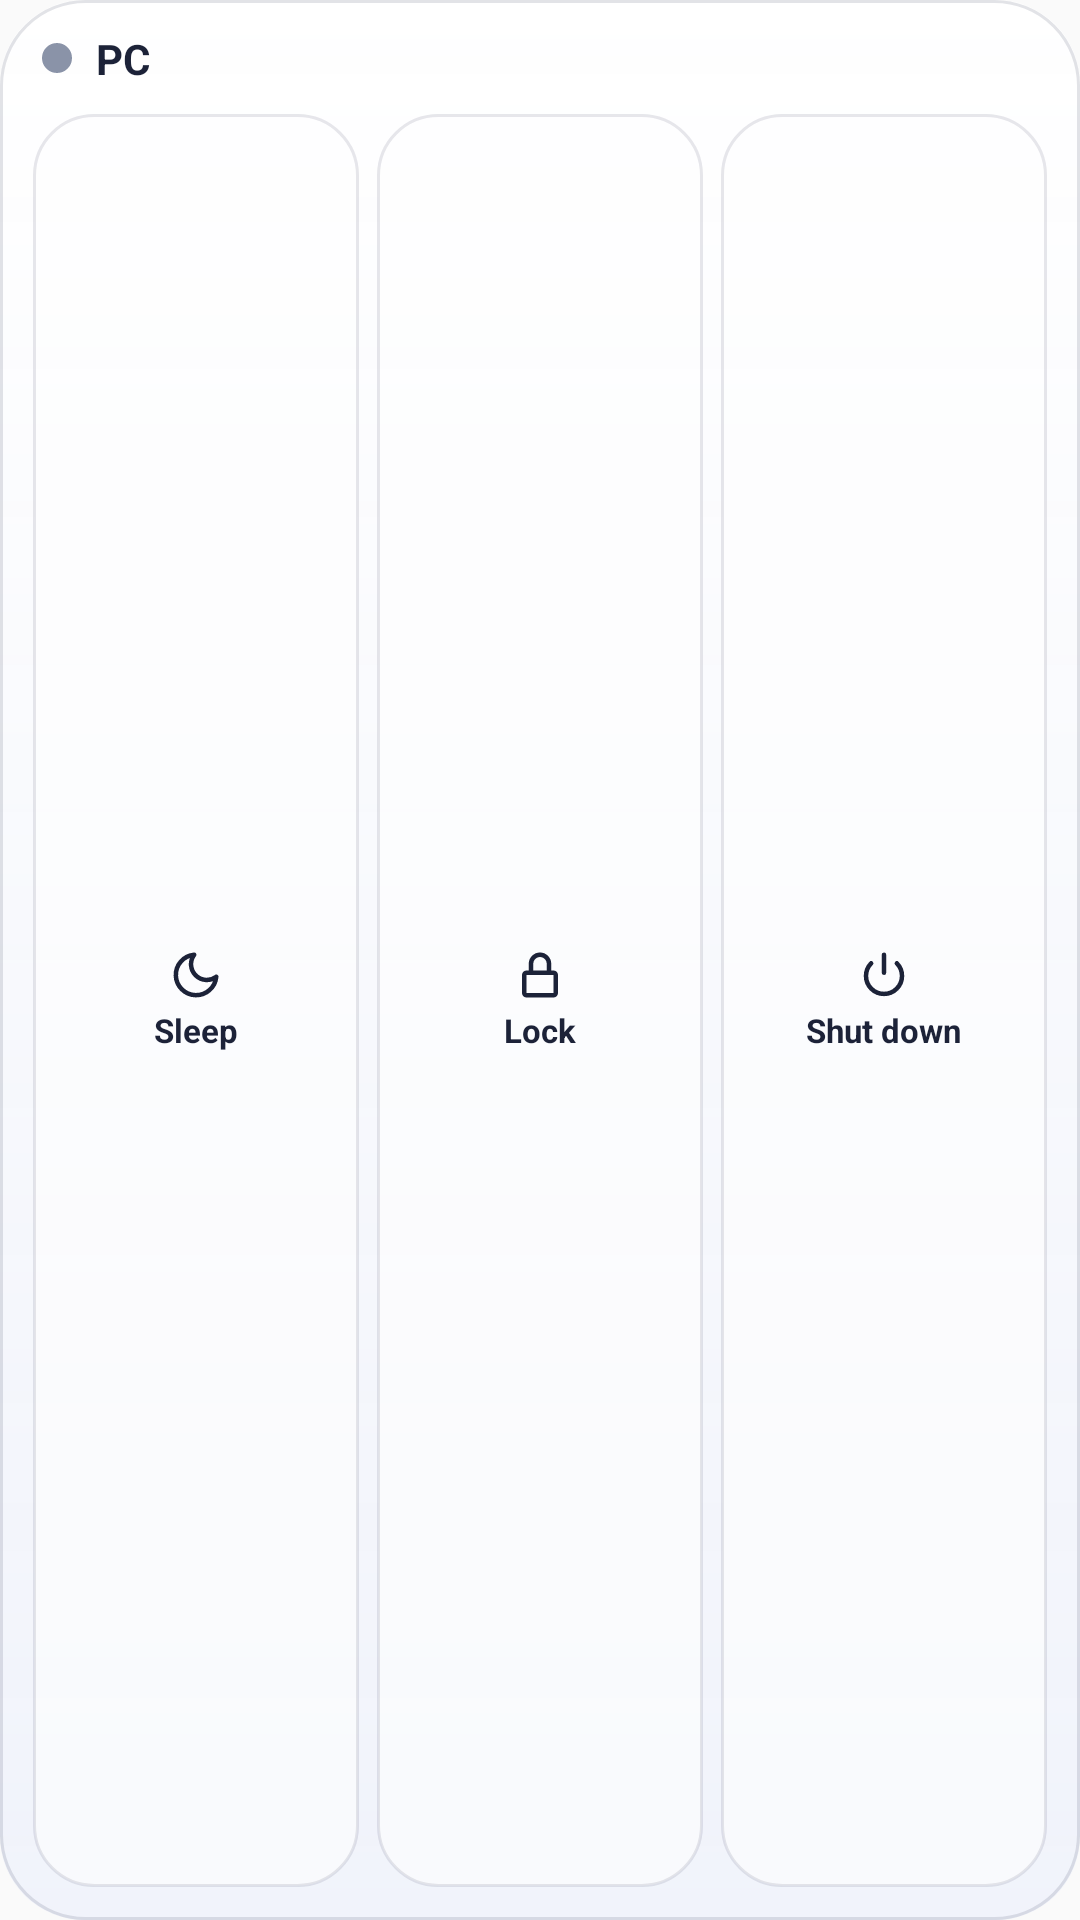

Icon click points for this 1080w x 1920h phone screenshot, format (x=x, y=y):
moon: (x=196, y=975)
power: (x=884, y=974)
